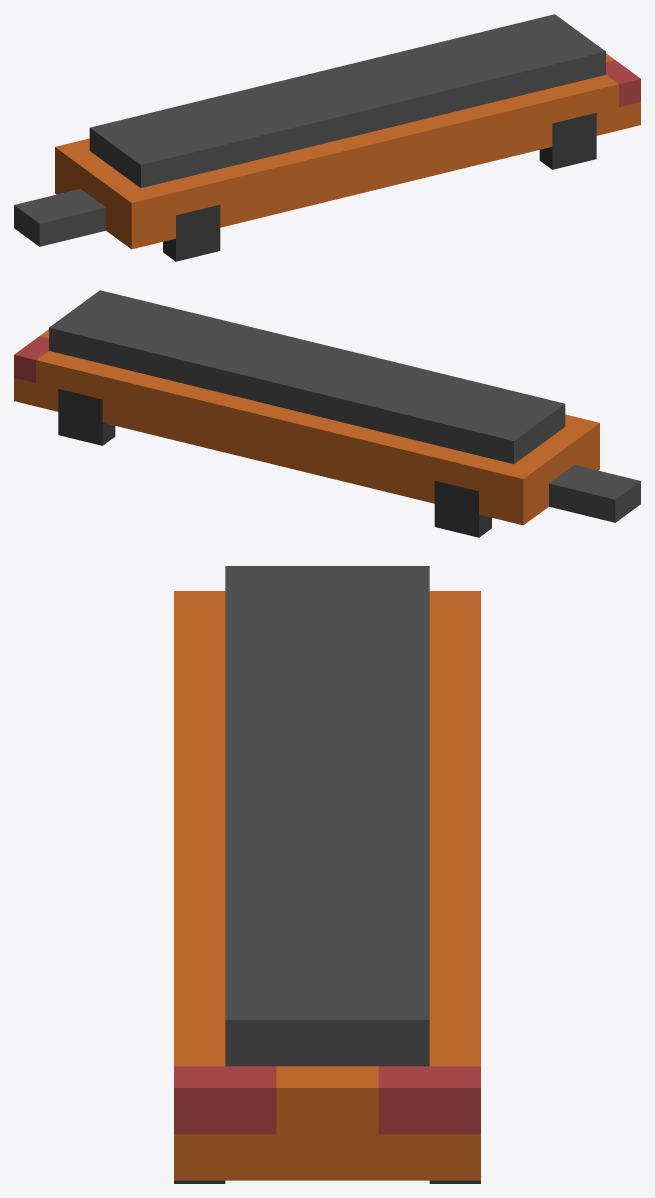
The model's file is truck-trailer-v2-orange.gltf.
3 views of the same model, one above another, from view 1: azimuth 30°, elevation 25°; view 2: azimuth 150°, elevation 25°; view 3: azimuth 270°, elevation 25° (orthographic). The views are drawn at different scales.
Parts seen in each view (by area): view 1: model, wheels; view 2: model, wheels; view 3: model.
Part boxes in pixels (x1,y1,x2,y2): model: (14, 14, 640, 249); wheels: (163, 113, 596, 261); model: (14, 290, 640, 525); wheels: (58, 389, 491, 537); model: (174, 566, 480, 1180).
Bounding box in the file's own units: 2.6 × 0.4 × 0.6.
Materials: 2 (2 with a texture image).
